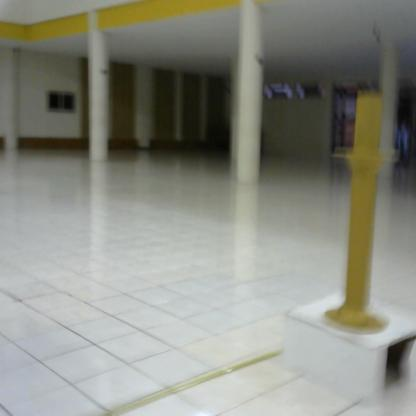pole: (321, 87, 404, 340)
